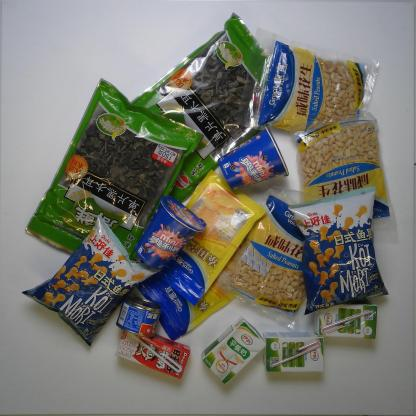Canned Food: (115, 295, 161, 337)
Dessert: (134, 196, 207, 270), (218, 126, 290, 192)
Dried Food: (24, 77, 204, 261), (129, 11, 267, 204)
Dried Fruit: (237, 26, 381, 132), (216, 185, 320, 331), (158, 169, 266, 306), (288, 112, 400, 244), (135, 267, 236, 342)
Milk: (201, 315, 267, 385), (114, 330, 190, 379), (264, 331, 324, 373), (314, 299, 377, 339)
Puffed Food: (21, 214, 161, 347), (288, 185, 389, 316)
